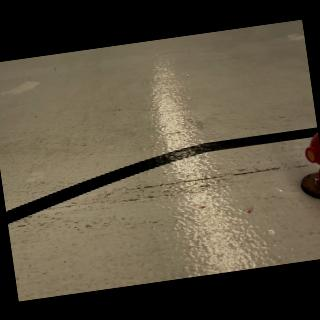teletubby: (305, 132, 320, 185)
